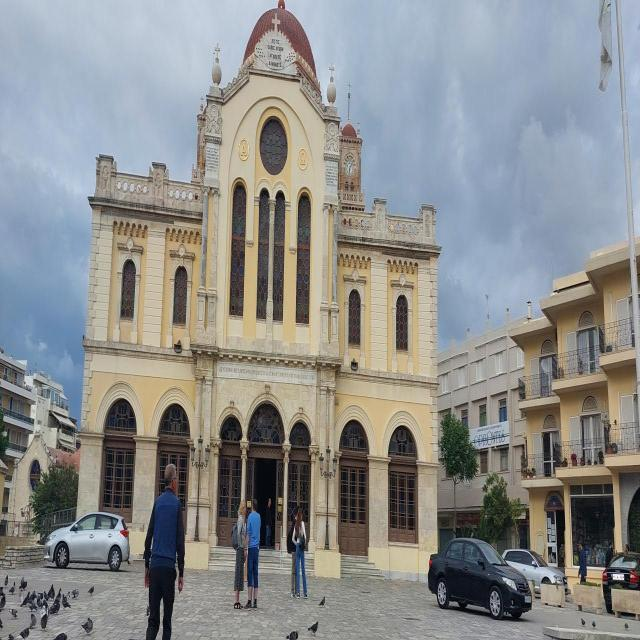Agios Minas: (72, 3, 440, 589)
